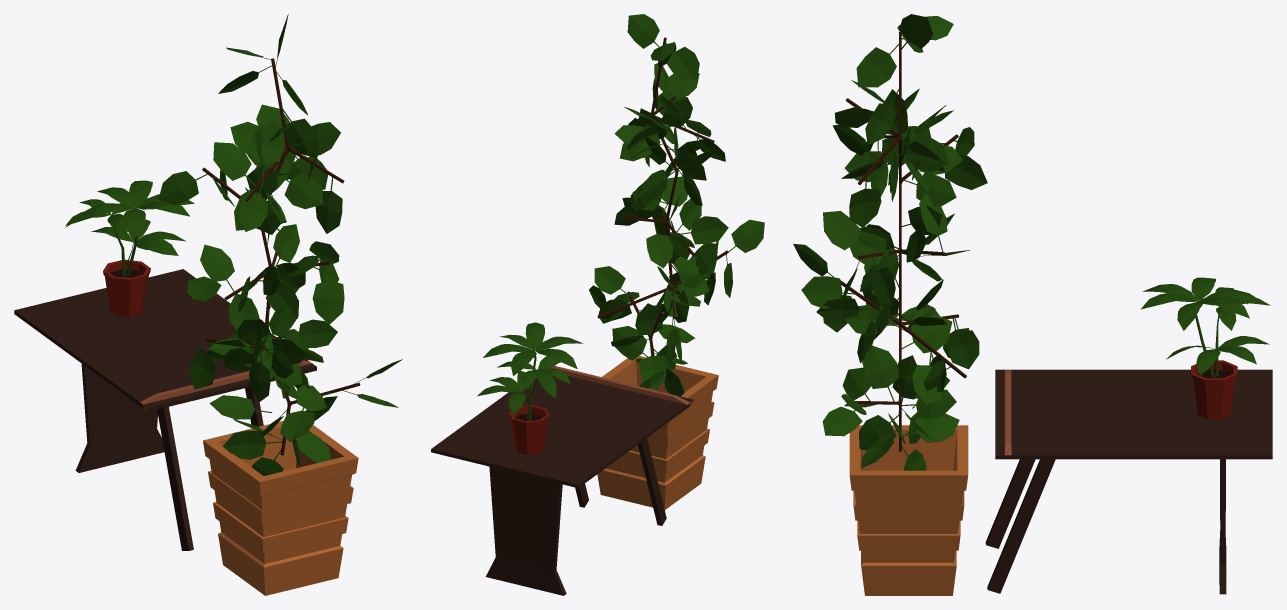
File: mesa.obj
3 renders of one model, left to right at view 1: azimuth 30°, elevation 25°; view 2: azimuth 150°, elevation 25°; view 3: azimuth 270°, elevation 25°, orthographic. The views are drawn at different scales.
Visible parts, largest first — view 1: Mesh2; view 2: Mesh2; view 3: Mesh2.
Boxes of the visible parts, bbox=[...] form: Mesh2: bbox=[14, 14, 402, 595]; Mesh2: bbox=[431, 14, 764, 595]; Mesh2: bbox=[793, 14, 1272, 595].
Bounding box in the file's own units: 2.54 × 7.18 × 5.49.
